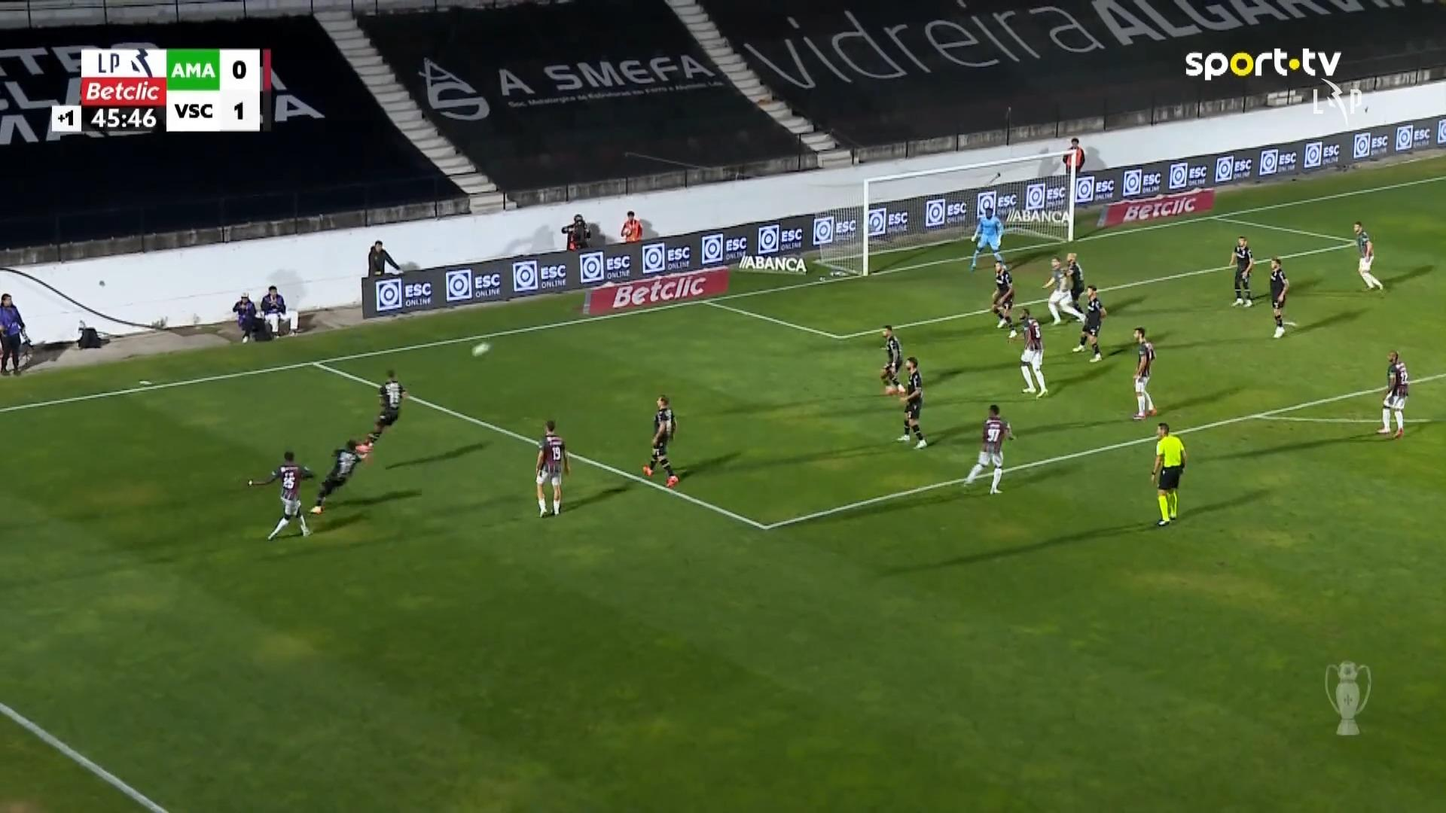ball: (471, 342, 489, 357)
goalkeeper: (969, 206, 1005, 270)
player: (246, 450, 315, 540), (309, 436, 374, 513), (962, 403, 1016, 495), (533, 419, 569, 517), (642, 394, 679, 488), (1011, 306, 1048, 397), (365, 368, 406, 444), (895, 356, 928, 449), (1375, 349, 1409, 439), (1042, 256, 1085, 325), (1071, 284, 1106, 362), (1130, 326, 1157, 420), (1353, 220, 1383, 291), (990, 260, 1017, 337), (878, 324, 905, 395), (1228, 235, 1254, 307), (1268, 257, 1289, 338), (1062, 251, 1086, 315)
referee: (1149, 422, 1186, 526)
